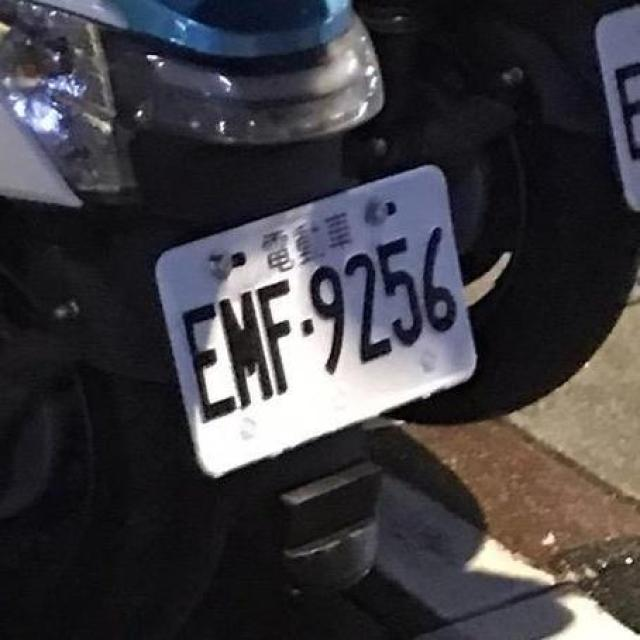W: (154, 163, 478, 481)
